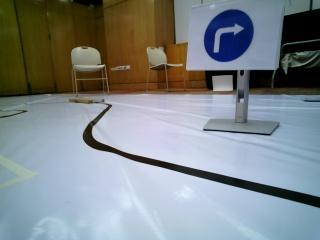right: (187, 3, 282, 73), (279, 122, 280, 123)
